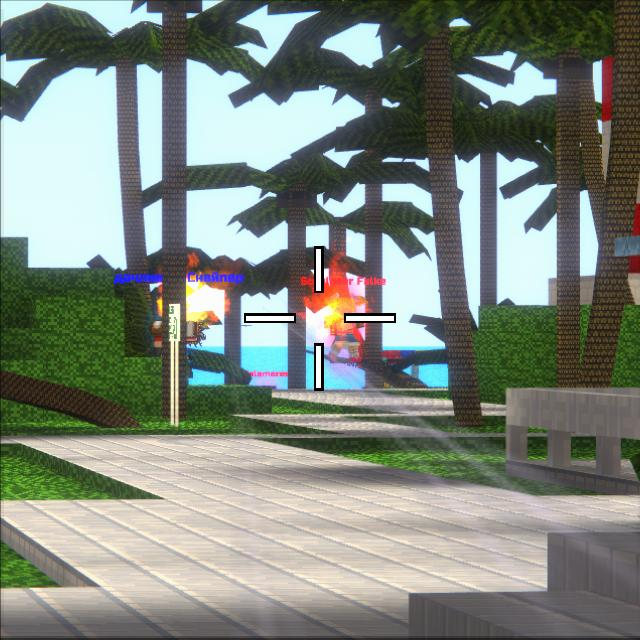Enemy: (325, 301, 362, 368)
